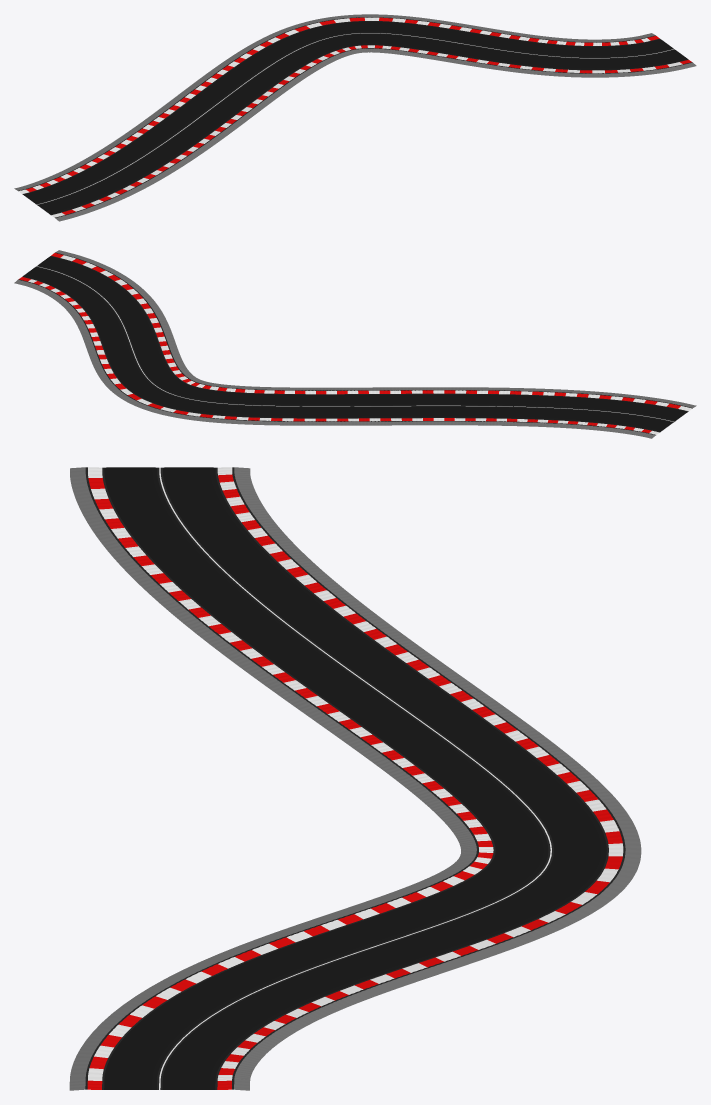
Rendered from S0.Group.202.export.A1M1H0cornL.glb.
3 renders of one model, top to bottom at view 1: azimuth 30°, elevation 25°; view 2: azimuth 150°, elevation 25°; view 3: azimuth 270°, elevation 25°, orthographic. The views are drawn at different scales.
Visible parts, largest first — view 1: Grid; view 2: Grid; view 3: Grid.
Part boxes in pixels (x1=…): Grid: x1=14, y1=14, x2=696, y2=221; Grid: x1=14, y1=250, x2=696, y2=438; Grid: x1=69, y1=467, x2=641, y2=1090.
Bounding box in the file's own units: 204 × 0.21 × 79.29.
